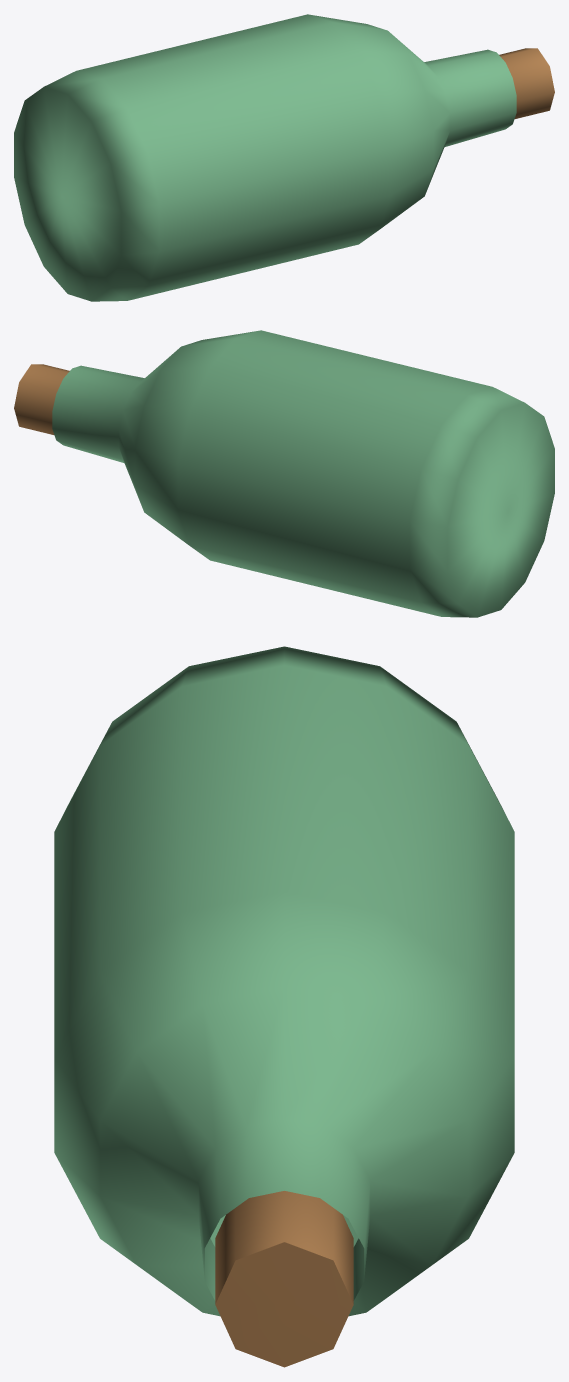
Rendered from item_shell_bottle.glb.
3 views of the same model, one above another, from view 1: azimuth 30°, elevation 25°; view 2: azimuth 150°, elevation 25°; view 3: azimuth 270°, elevation 25° (orthographic). The views are drawn at different scales.
Parts seen in each view (by area): view 1: item_shell_bottle_gloss, item_shell_bottle_main; view 2: item_shell_bottle_gloss, item_shell_bottle_main; view 3: item_shell_bottle_gloss, item_shell_bottle_main.
Boxes of the visible parts, x1,y1,x2,y2 form: item_shell_bottle_gloss: [14, 14, 516, 301]; item_shell_bottle_main: [499, 48, 554, 118]; item_shell_bottle_gloss: [52, 330, 554, 617]; item_shell_bottle_main: [14, 364, 69, 434]; item_shell_bottle_gloss: [54, 646, 514, 1316]; item_shell_bottle_main: [215, 1191, 353, 1367].
Bounding box in the file's own units: 0.35 × 0.15 × 0.1462.
